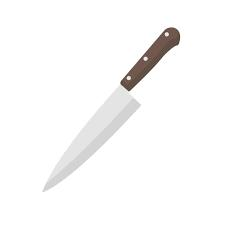Knife: (42, 26, 180, 192)
